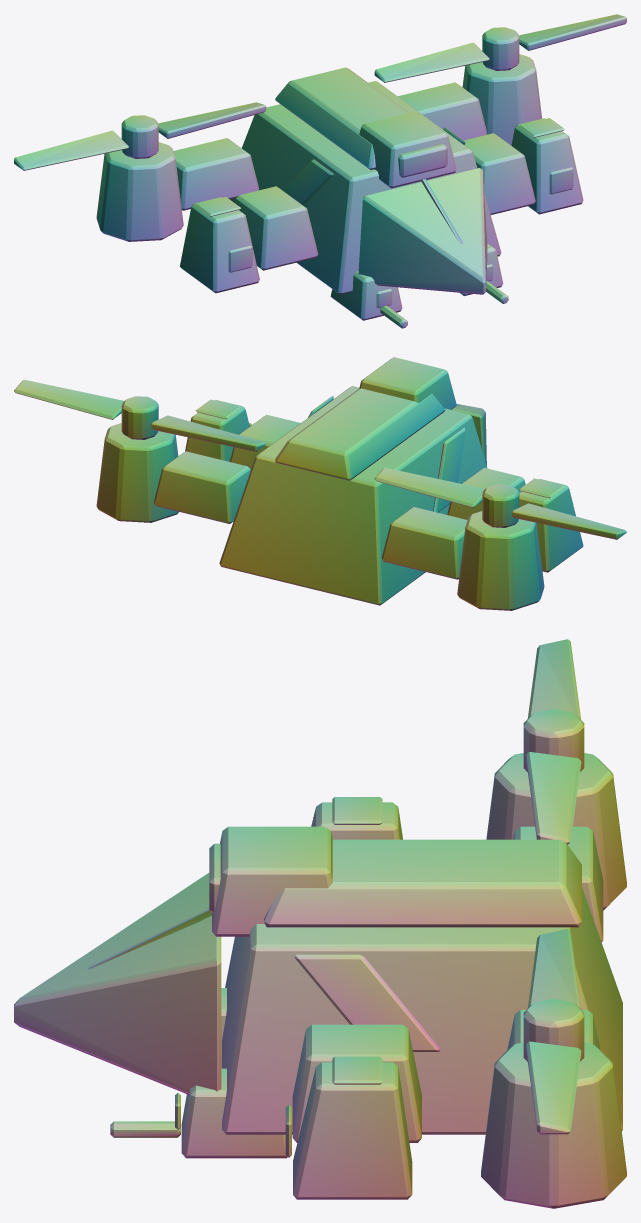
Rendered from dart_rig.glb.
The picture shows the model from 3 angles, top to bottom: view 1: azimuth 30°, elevation 25°; view 2: azimuth 150°, elevation 25°; view 3: azimuth 270°, elevation 25°; orthographic projection. The views are drawn at different scales.
Visible parts, largest first — view 1: body, rotor_0, rotor_1; view 2: body, rotor_1, rotor_0; view 3: body, rotor_0, rotor_1.
Boxes of the visible parts, x1,y1,x2,y2 form: body: (96, 54, 583, 328); rotor_0: (374, 14, 626, 82); rotor_1: (14, 102, 266, 170); body: (96, 357, 583, 610); rotor_1: (375, 467, 626, 539); rotor_0: (14, 379, 266, 451); body: (14, 753, 626, 1208); rotor_0: (523, 929, 584, 1134); rotor_1: (523, 639, 584, 844).
Bounding box in the file's own units: 11.4 × 2.8 × 6.08.
